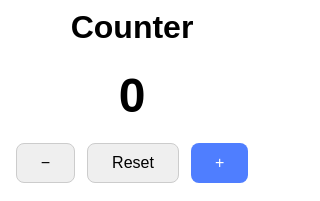
Test: Counter › increments count when + button is clicked
Click the button with test id "increment" at x=220, y=163, box [191,143,248,183]
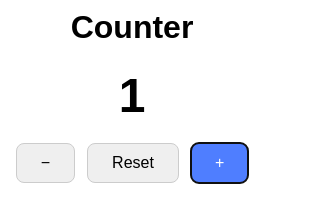
Expected: the text with test id "count" reads "1", [119,69,145,122]
